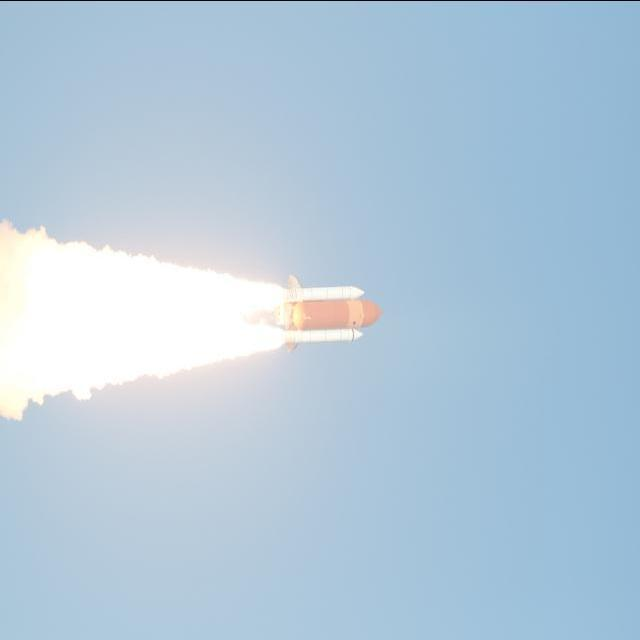missile: (286, 326, 373, 344), (287, 284, 367, 302)
